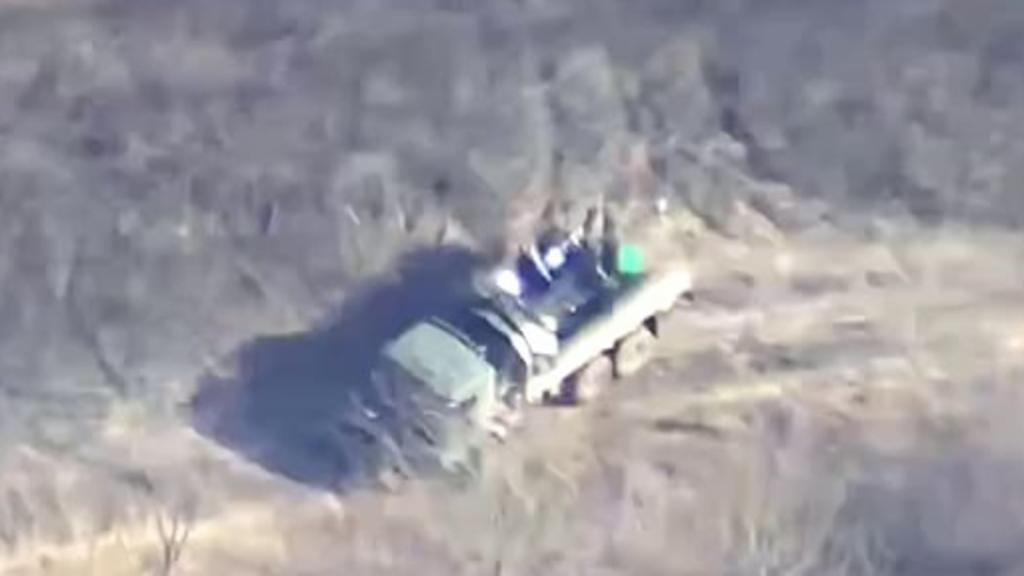TRUCK: (368, 186, 694, 478)
